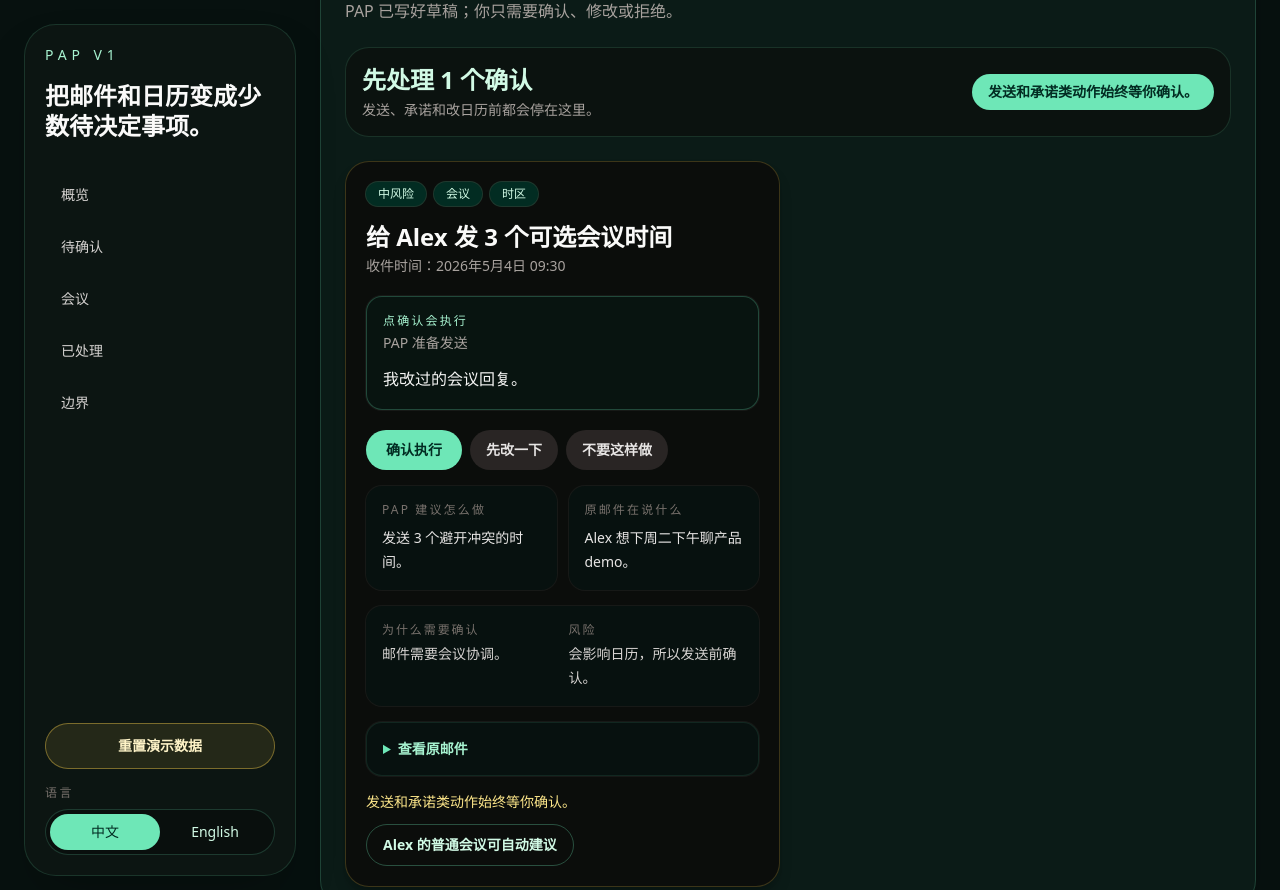
Scenario: PAP dashboard › loads persisted action state and edited drafts
(page scrolled)
Click the button "先改一下". click: (514, 450)
box: 470,430 -> 558,470
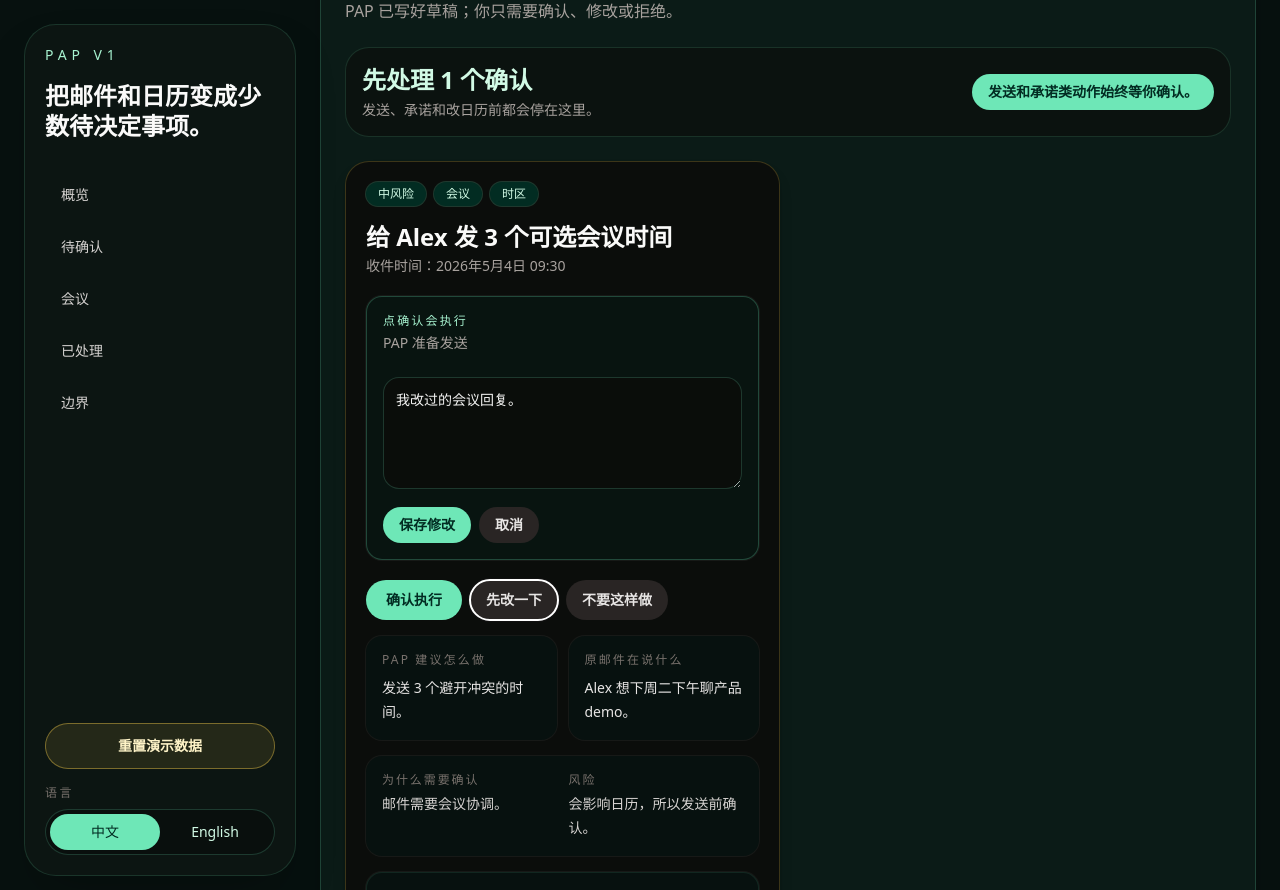
Now the text box named "修改建议内容" holds "我改过的会议回复。", box 383,377 -> 742,489
